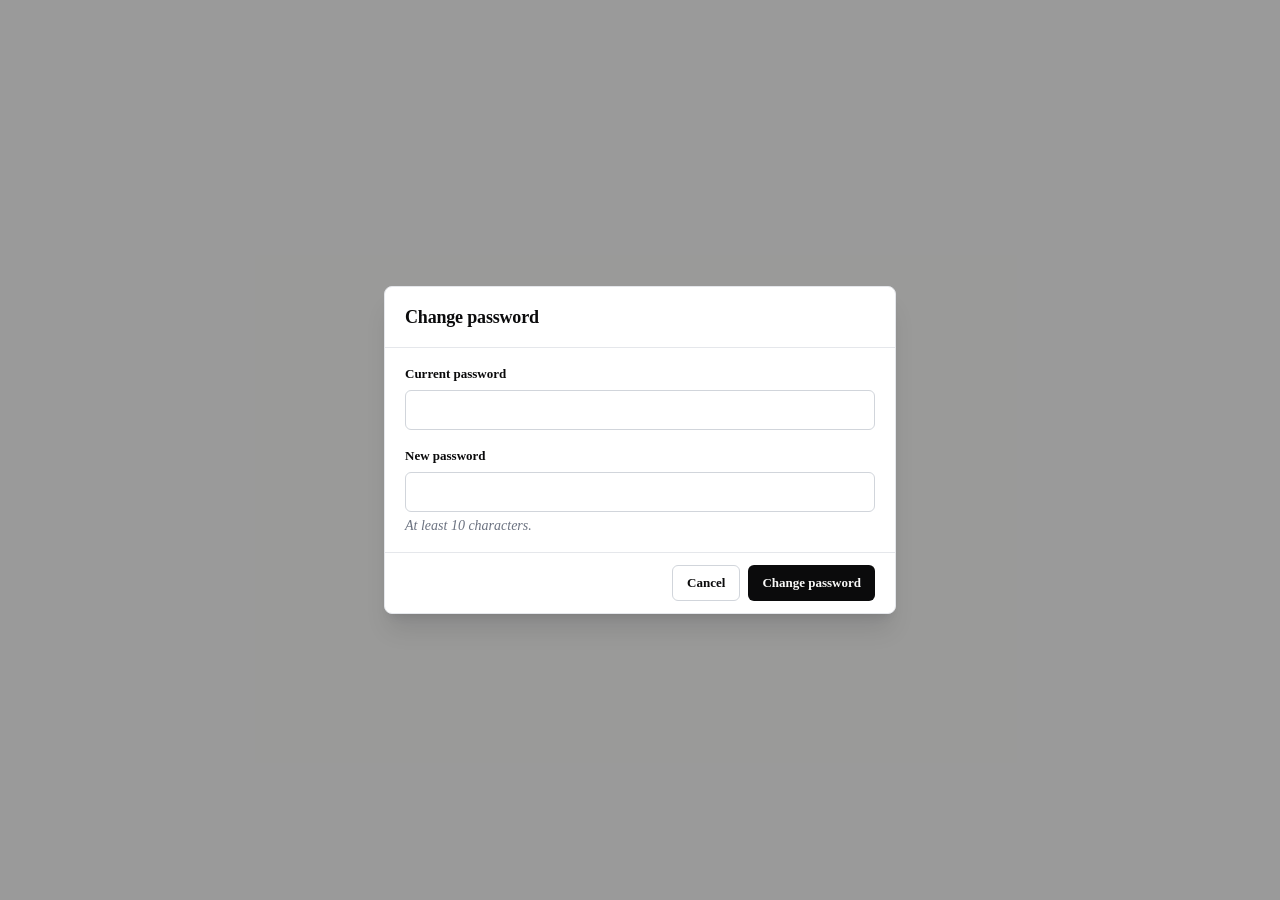
Test: ChangePasswordDialog › a wrong current password says so and keeps the dialog
The image size is (1280, 900).
Type "wrong password" into the password field labelled "Current password" at (640, 410), box [405,390,875,430]
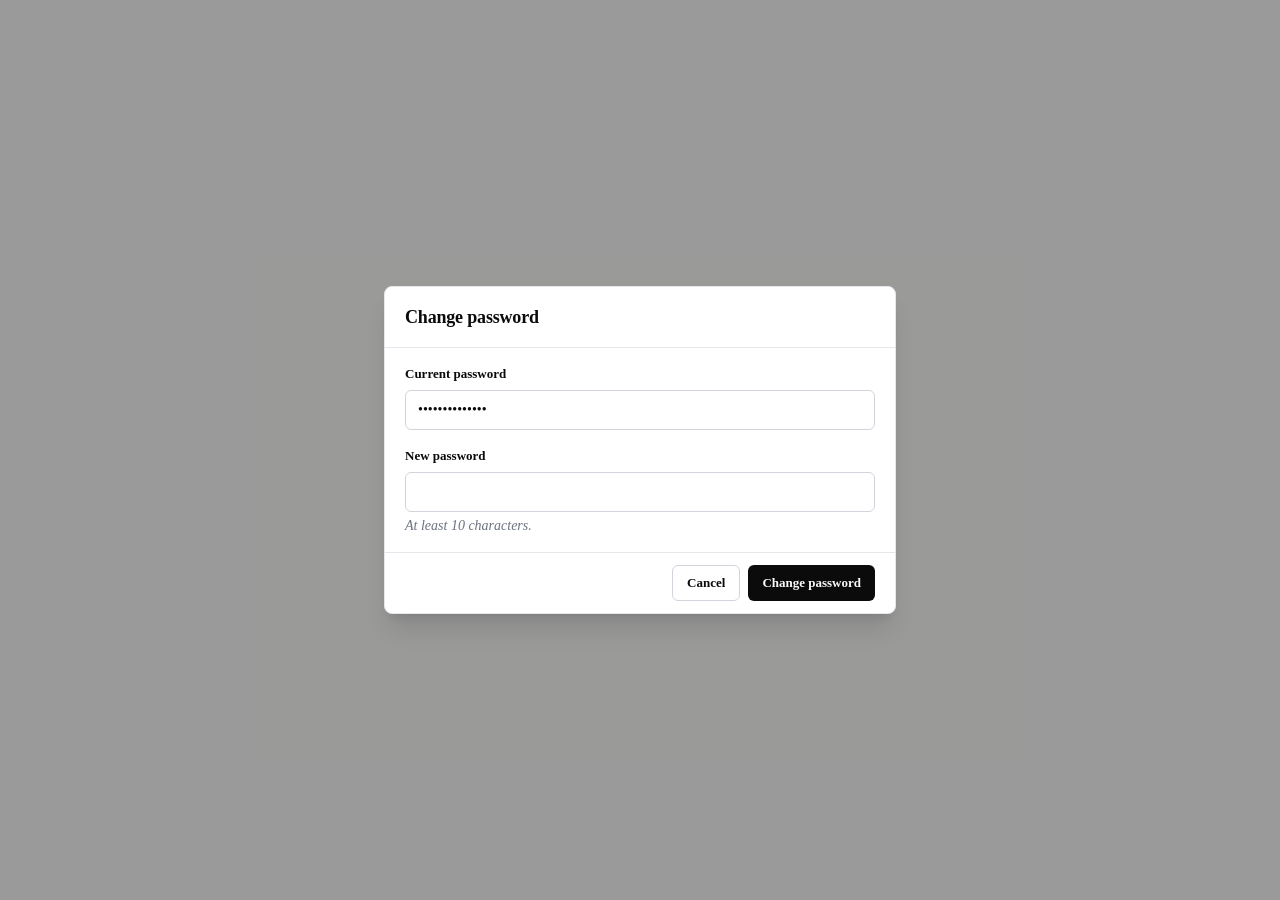
Type "the new password" into the password field labelled "New password" at (640, 492), box [405,472,875,512]
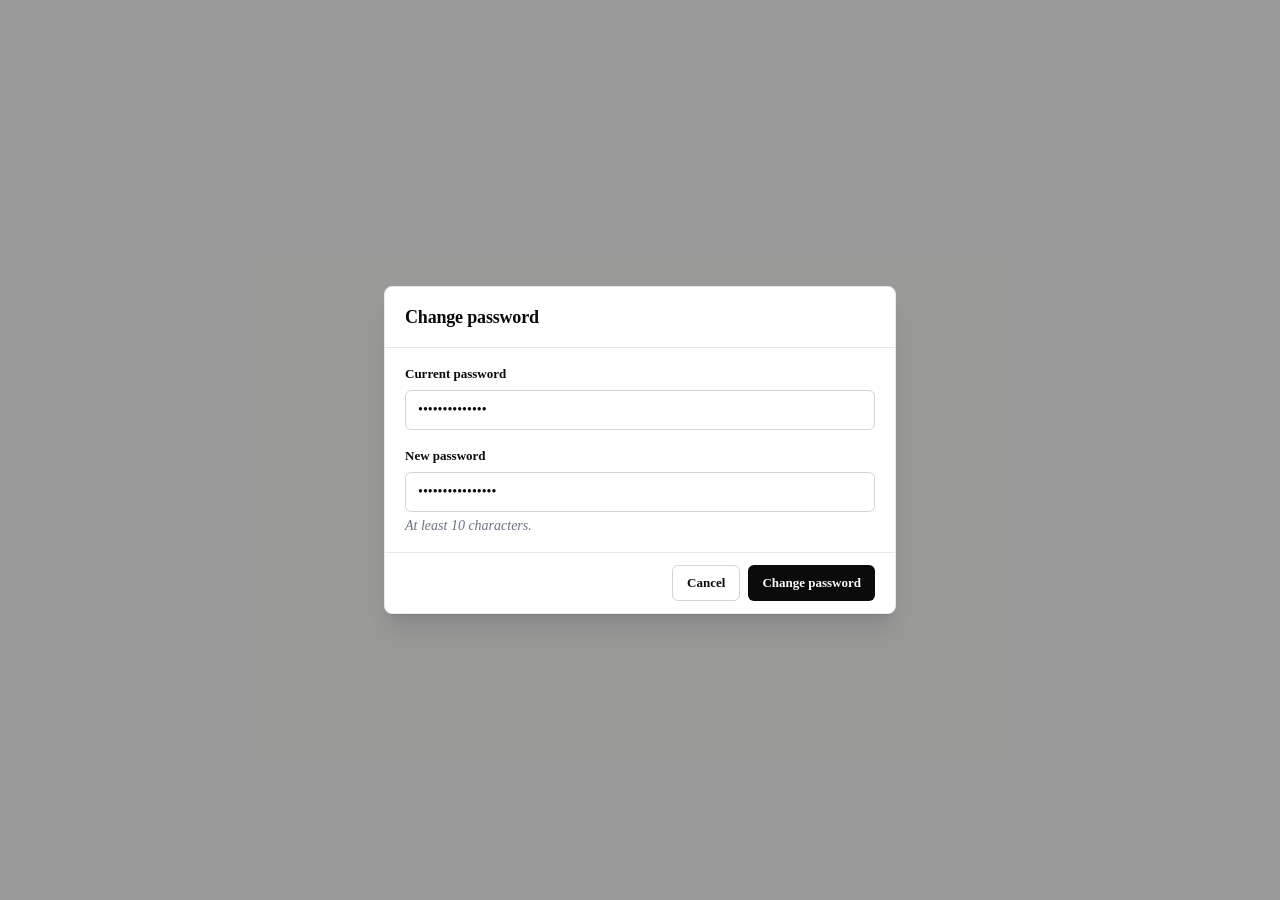
Click the button "Change password" at (812, 583), box [748,565,875,601]
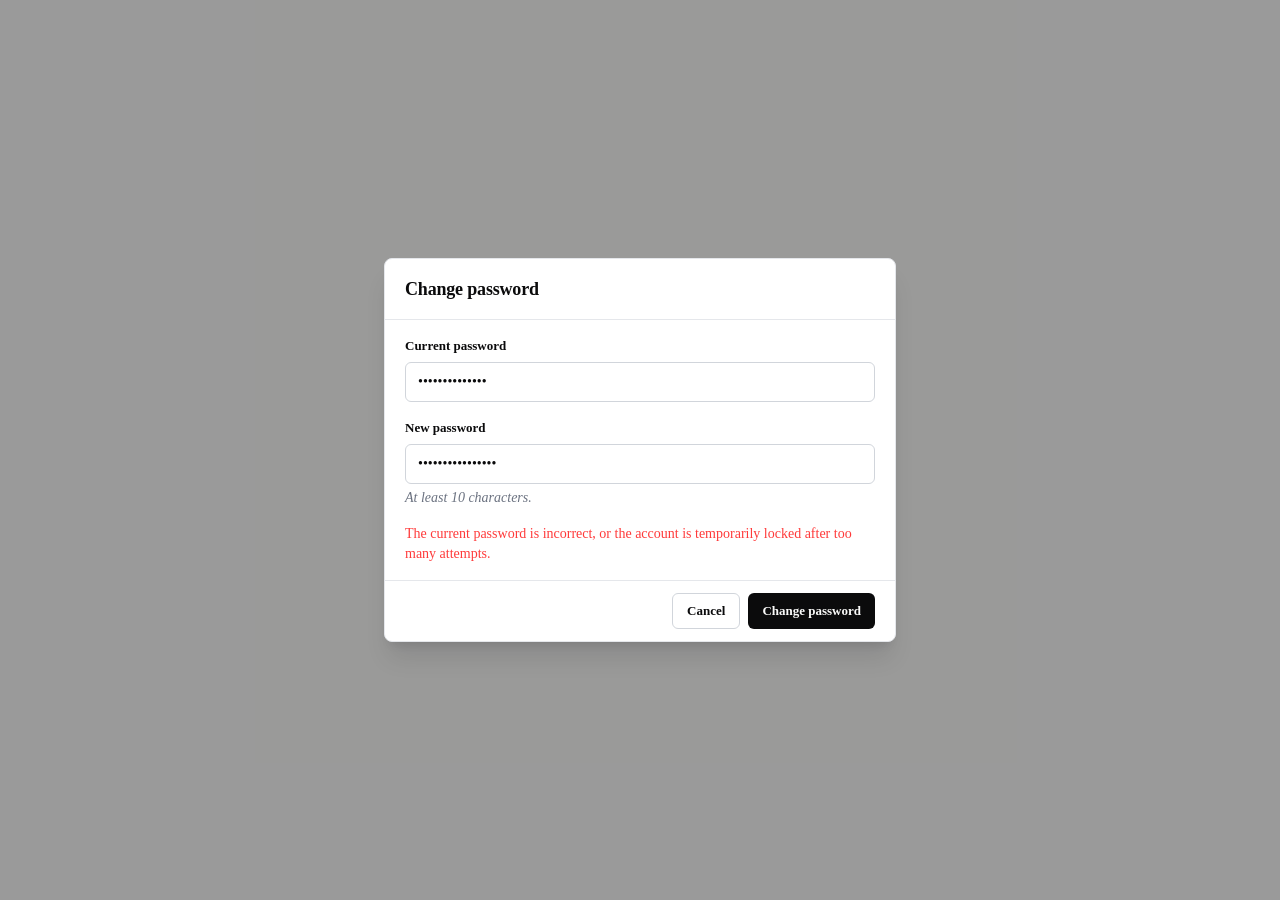
Result: the message shows "The current password is incorrect, or the account is temporarily locked after too many attempts." at [405,526,852,561]
